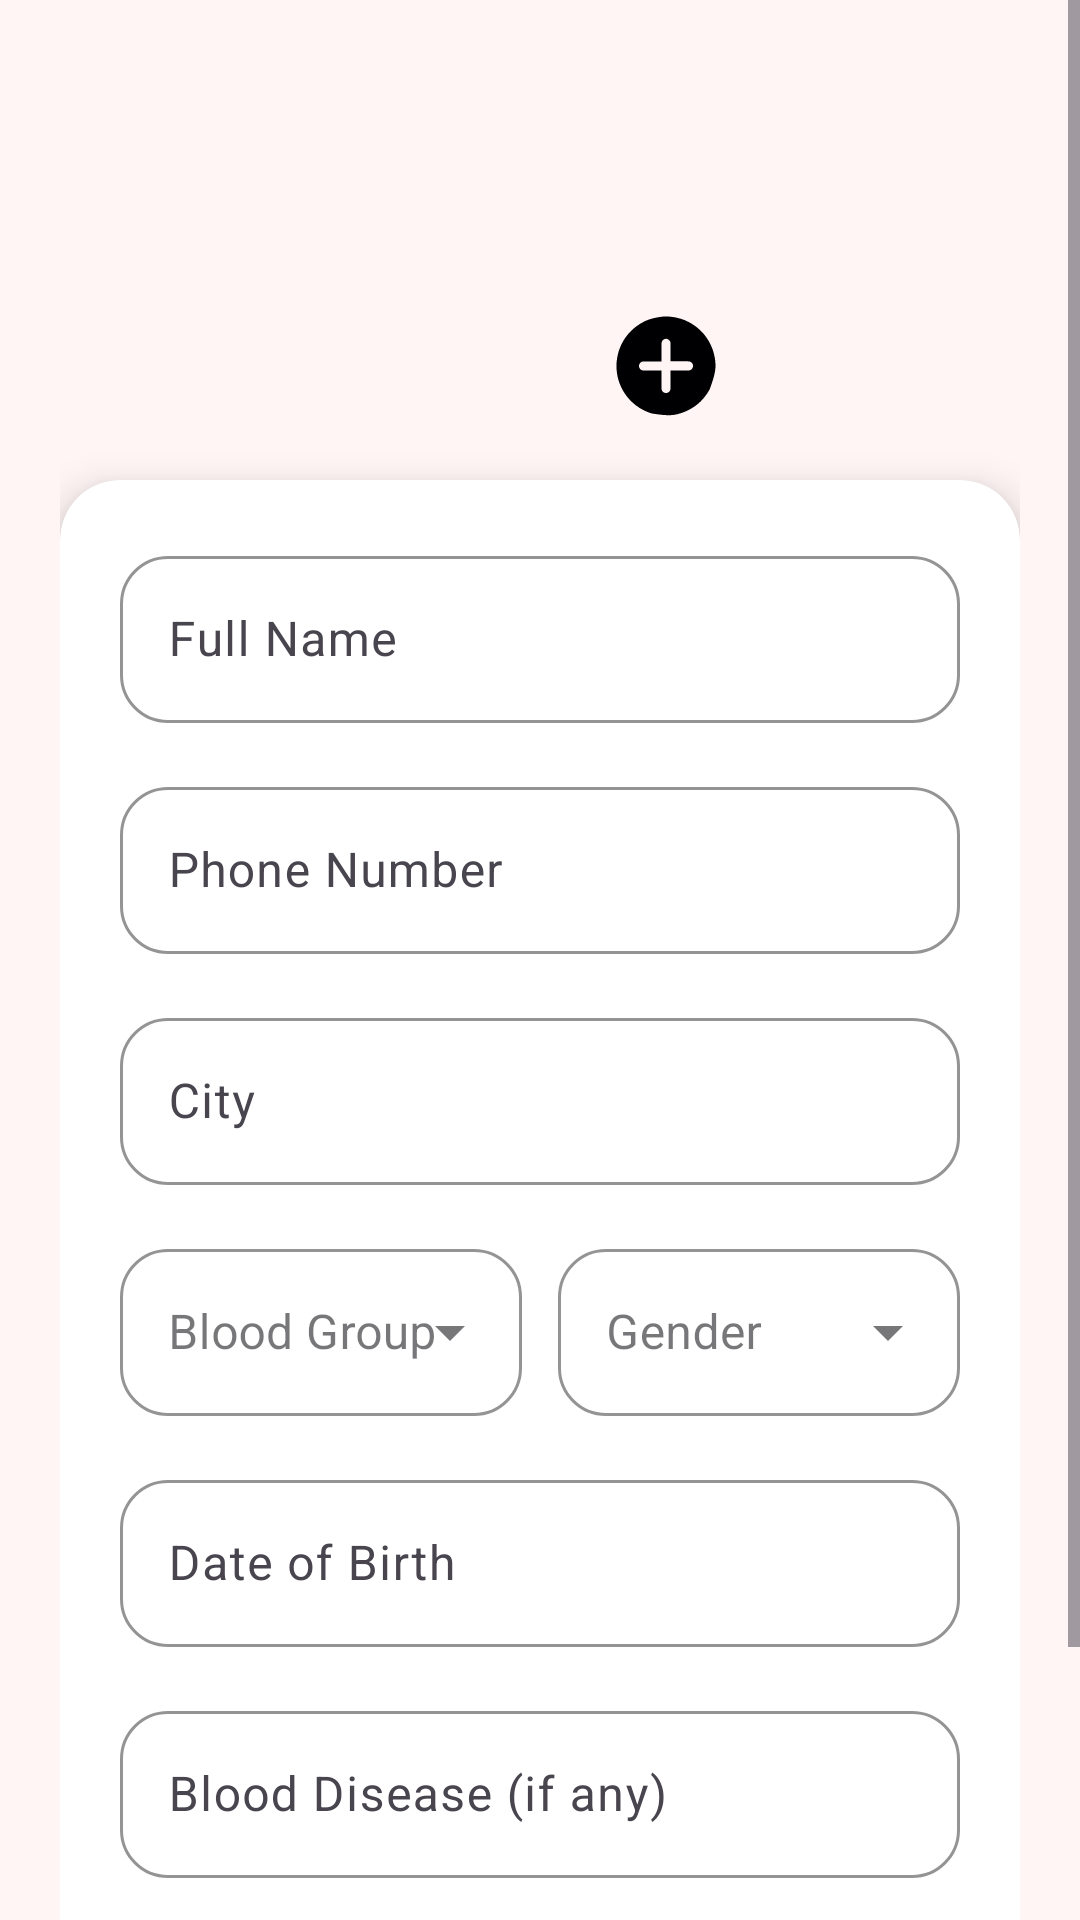

Icons on this 1080 × 1920 Android screen, each with the point to tap as [x,y]:
add: [666,366]
